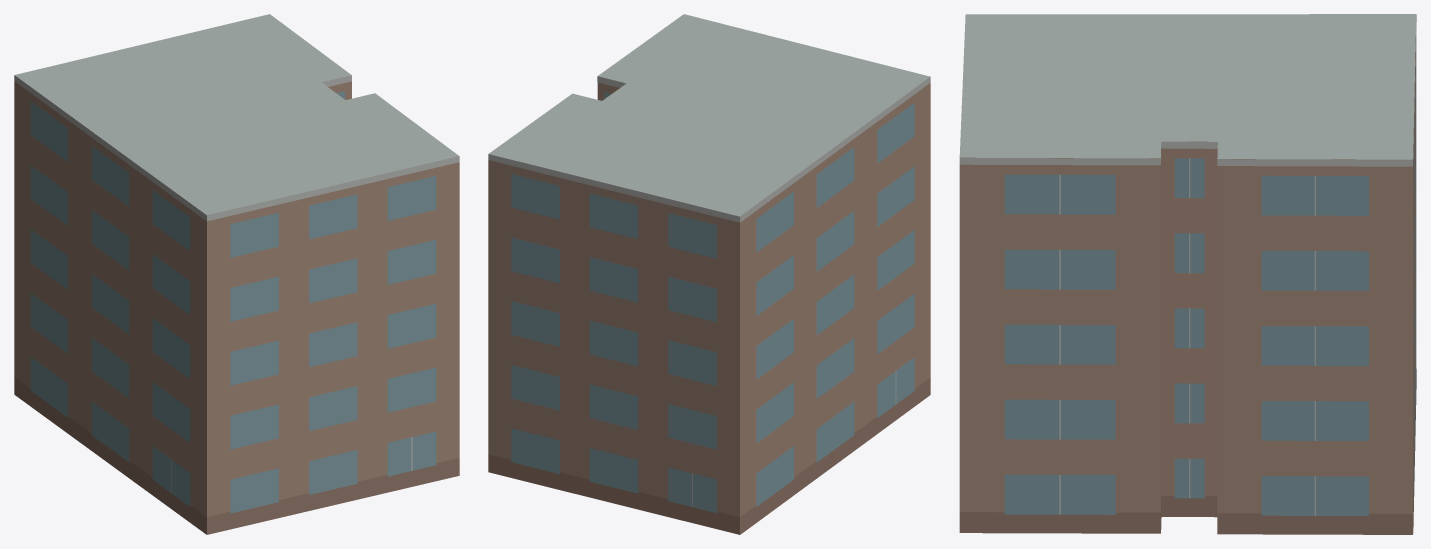
File: survey-upis-33026744.glb
The picture shows the model from 3 angles, left to right: view 1: azimuth 30°, elevation 25°; view 2: azimuth 150°, elevation 25°; view 3: azimuth 270°, elevation 25°; orthographic projection. The views are drawn at different scales.
Visible parts, largest first — view 1: survey-upis-33026744.tmp; view 2: survey-upis-33026744.tmp; view 3: survey-upis-33026744.tmp.
Part boxes in pixels (x1=…): survey-upis-33026744.tmp: x1=14, y1=14, x2=459, y2=534; survey-upis-33026744.tmp: x1=488, y1=14, x2=930, y2=534; survey-upis-33026744.tmp: x1=959, y1=14, x2=1416, y2=534.
Bounding box in the file's own units: 10.83 × 13 × 14.35.
